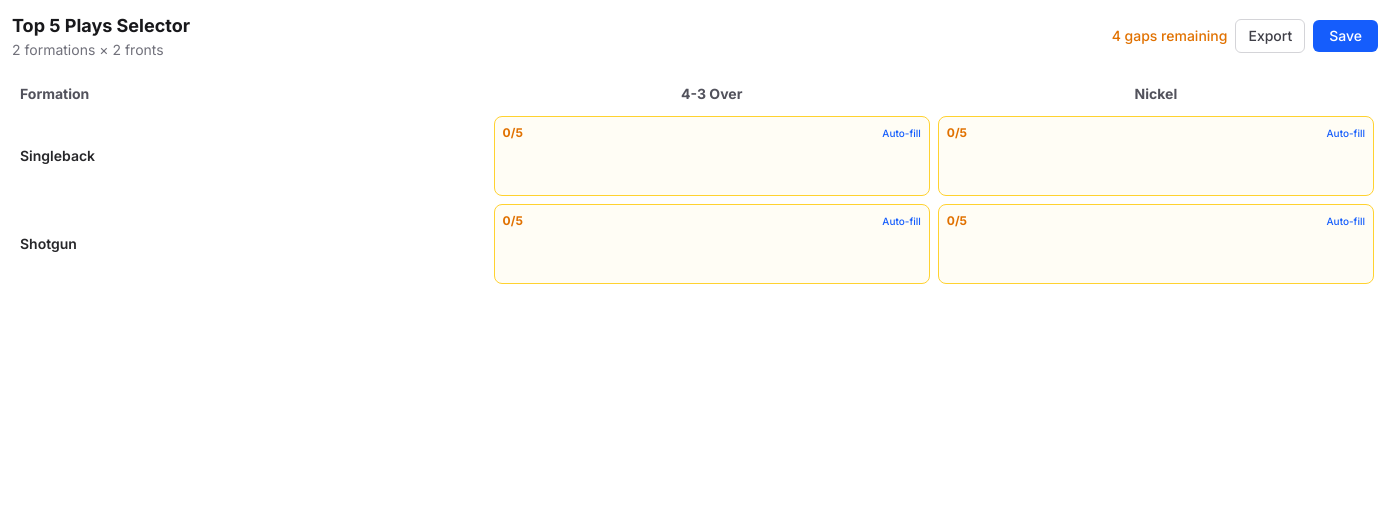
Test: TopPlaysSelector › adds a play to a cell when clicking in the detail panel
This screenshot has width=1390, height=513.
Click the button with test id "cell-f1-fr1" at (507, 132), box [494,116,930,196]
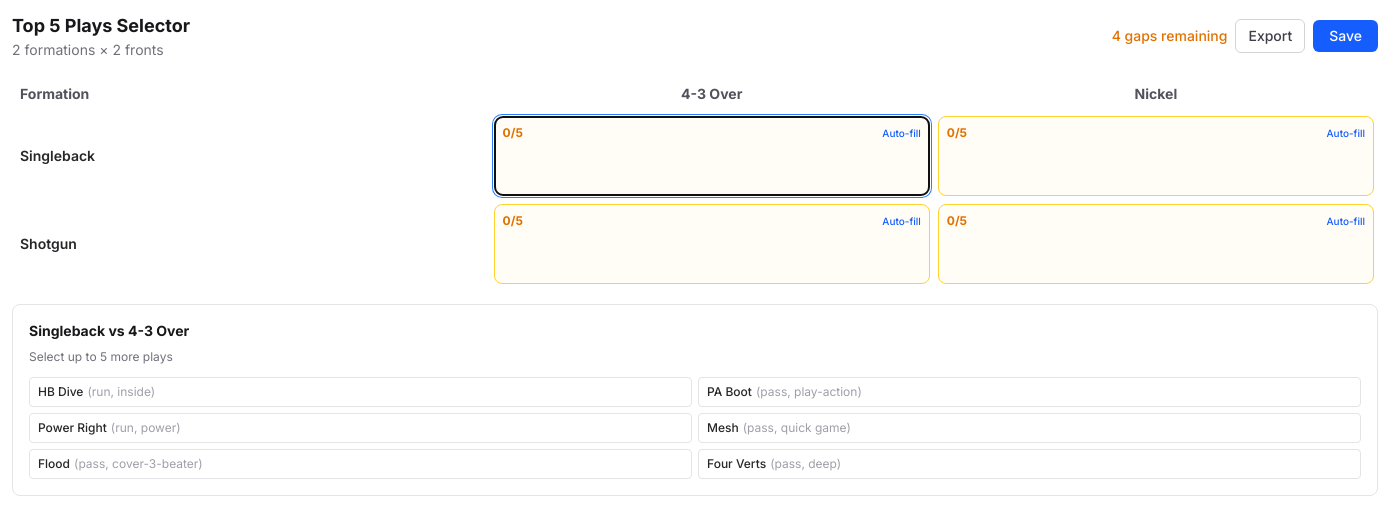
Click the button with test id "available-play-p1" at (61, 392), box [29,377,692,407]
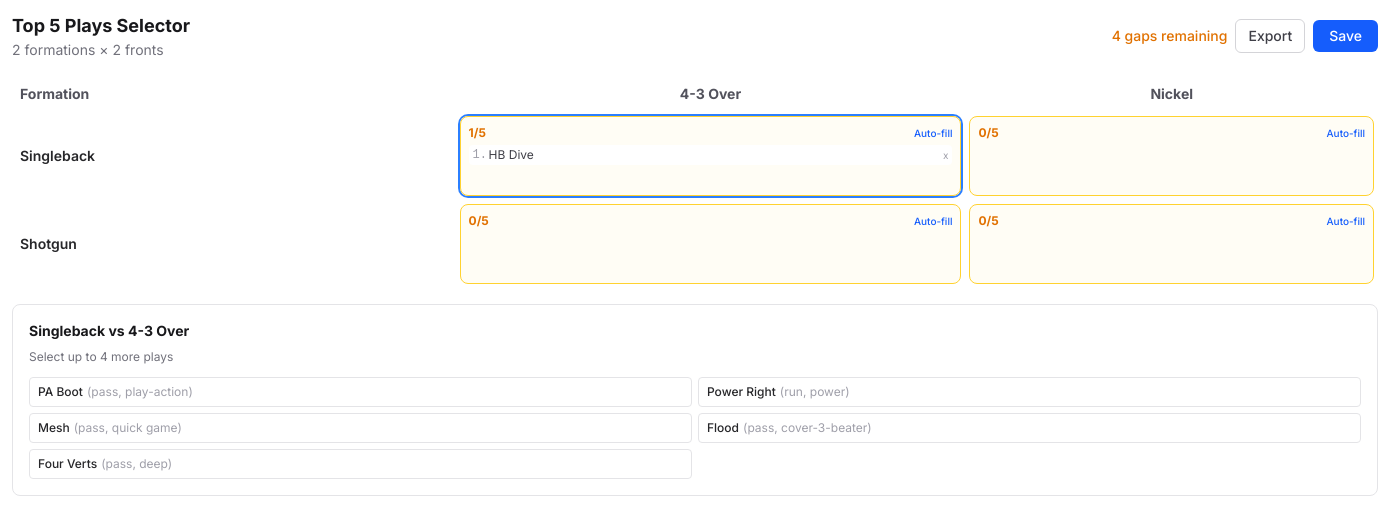
Expected: the text with test id "cell-count-f1-fr1" reads "1/5", [469,125,486,141]
